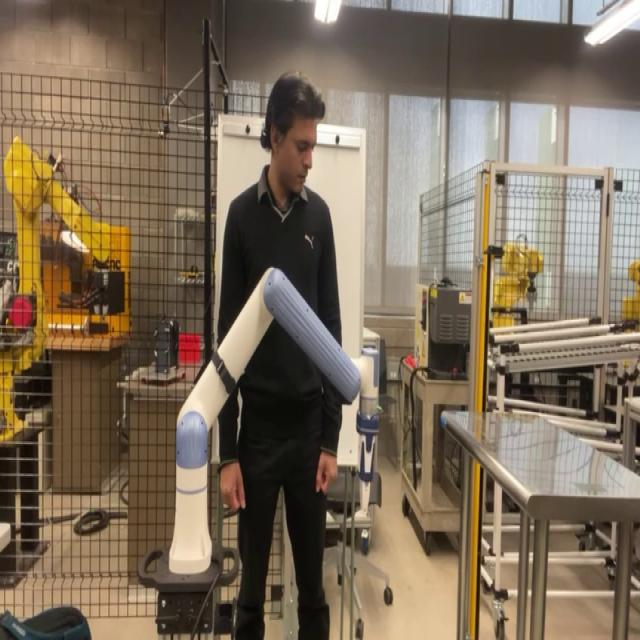robot: (158, 259, 389, 607)
